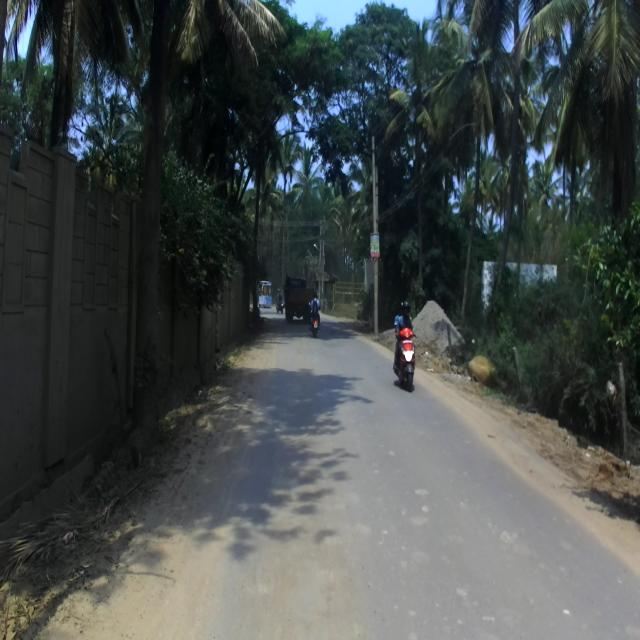motorcycle ahead at: (392, 321, 418, 390)
